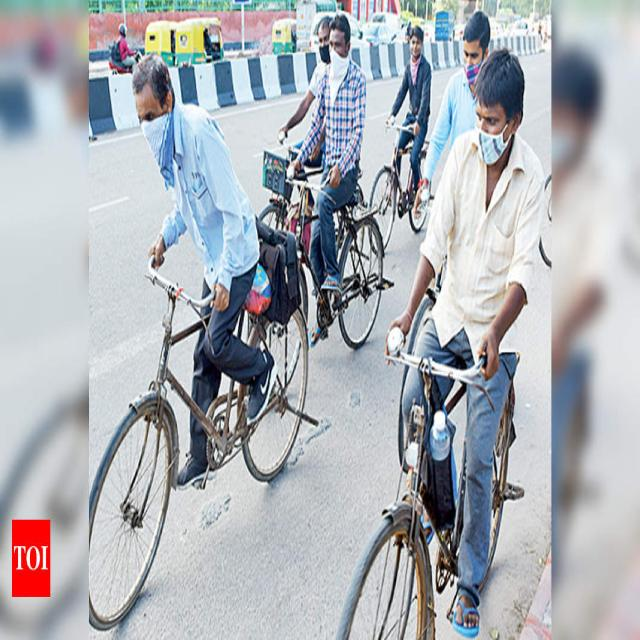bicycle: (90, 55, 315, 629), (338, 48, 544, 638), (285, 16, 390, 348), (370, 25, 431, 248)
